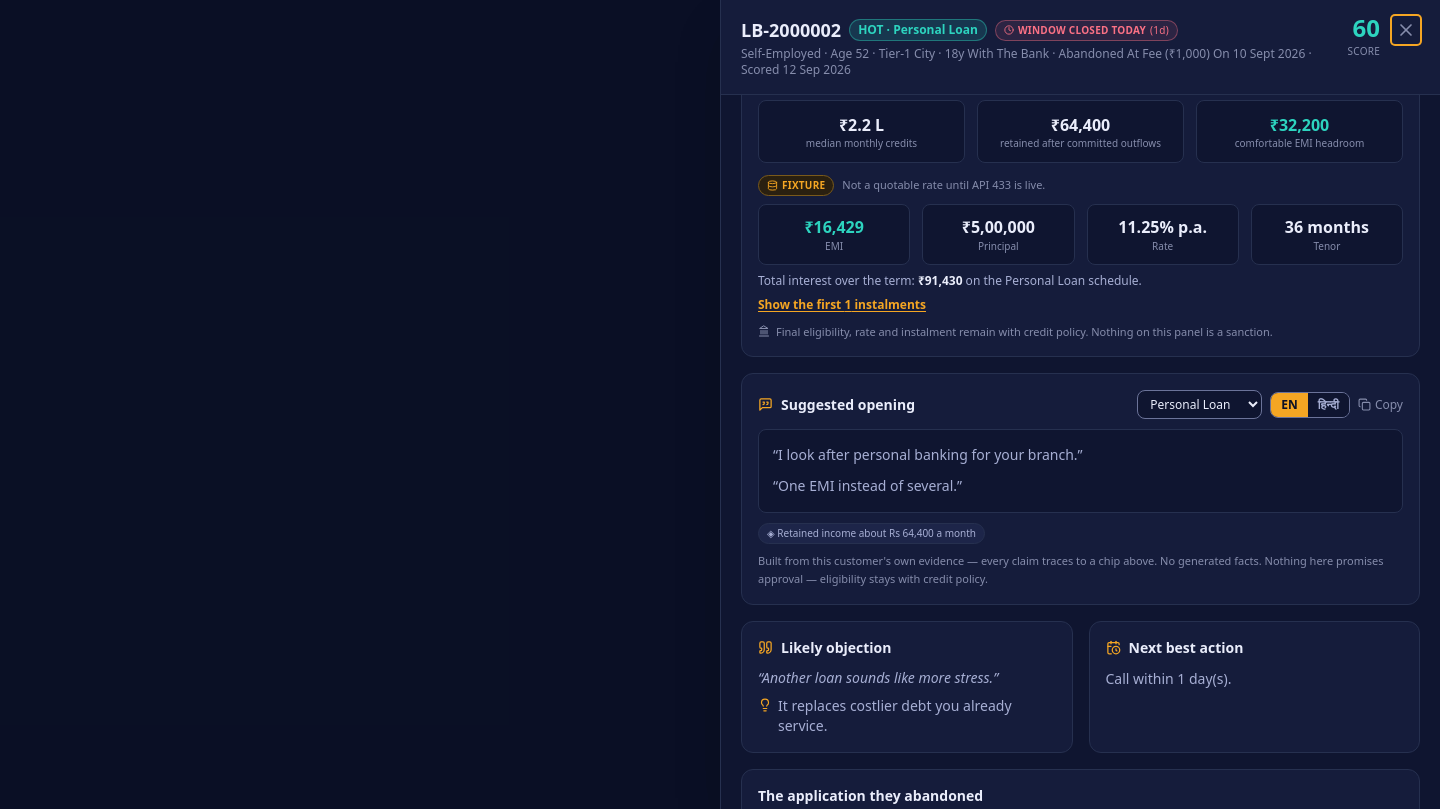
Test: LeadDrawer — the briefing › switches the script between English and Hindi
(page scrolled)
Expected: the element with test id "pitch-body" shows "I look after personal banking", [778,445,1078,464]
Step 1. Click the button "हिन्दी" → (1328, 405), box [1308,393,1349,417]
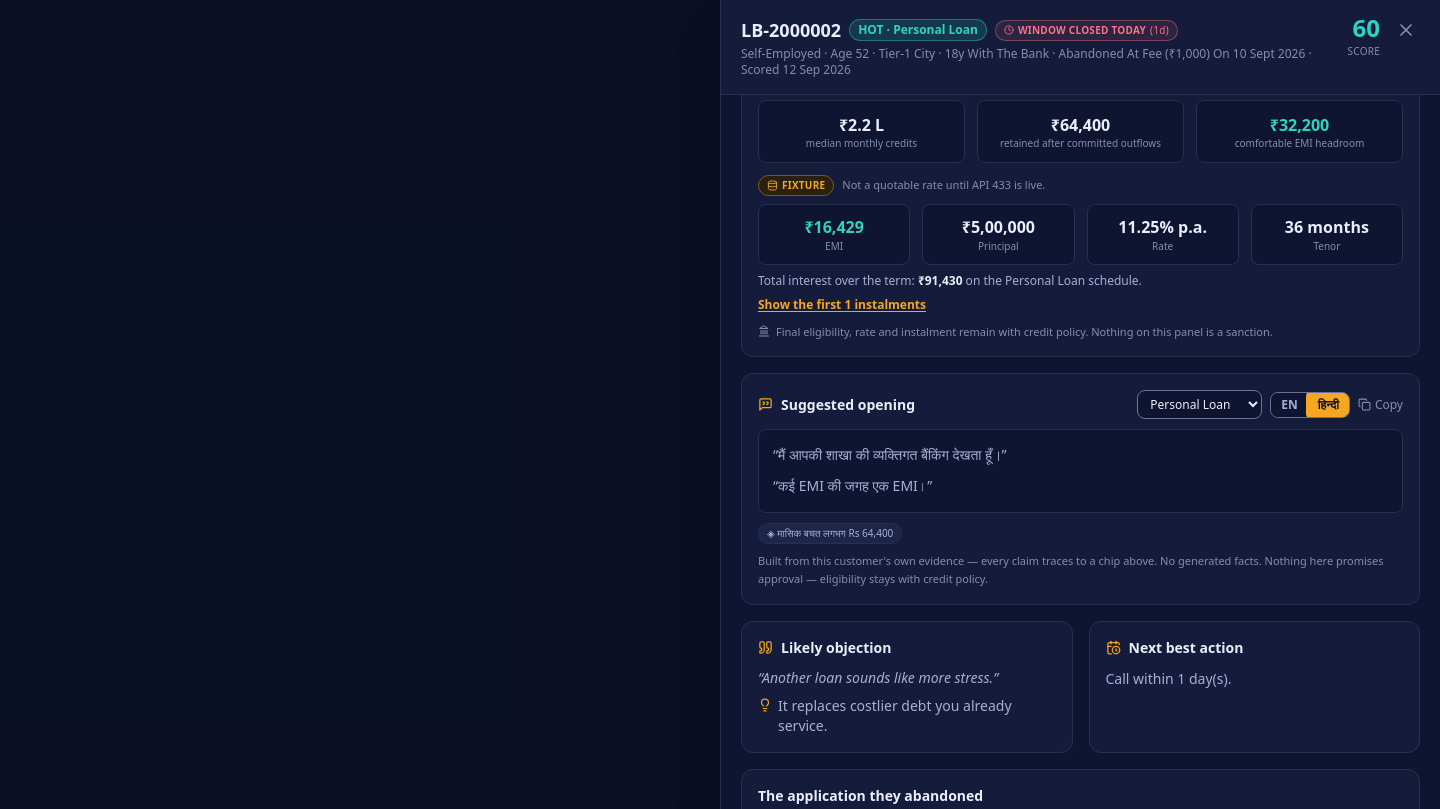
Expected: the element with test id "pitch-body" shows "शाखा", [778,445,1001,464]
